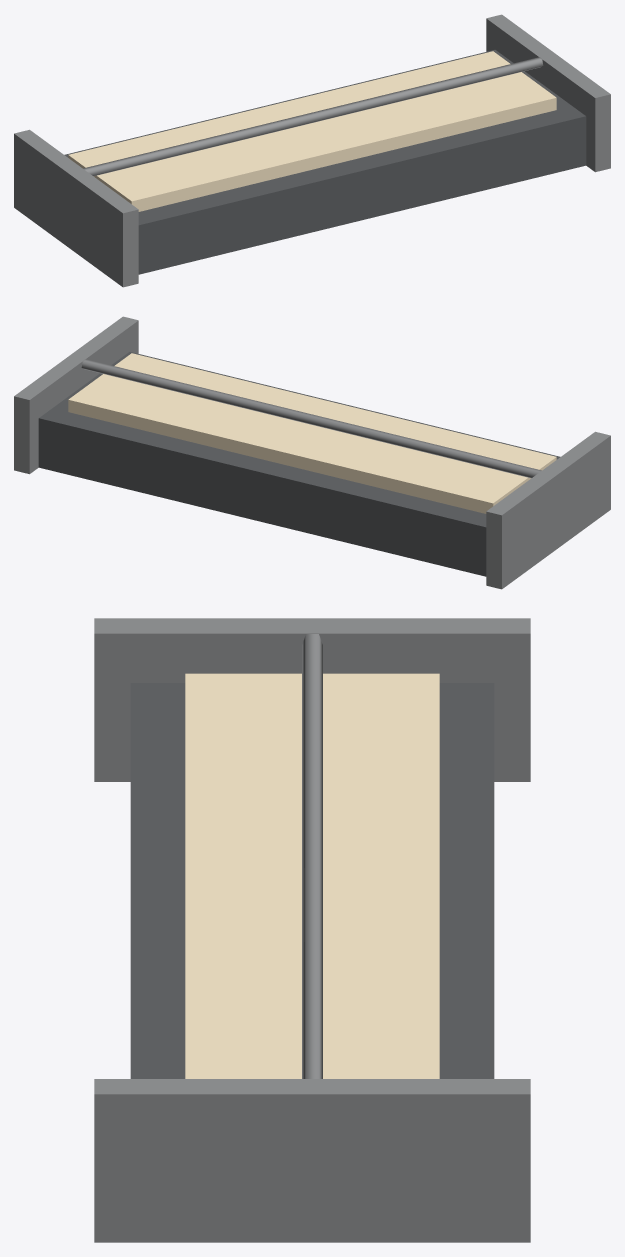
File: lightFitting_steel.glb
3 renders of one model, top to bottom at view 1: azimuth 30°, elevation 25°; view 2: azimuth 150°, elevation 25°; view 3: azimuth 270°, elevation 25°, orthographic. The views are drawn at different scales.
Parts seen in each view (by area): view 1: lightFitting_steel; view 2: lightFitting_steel; view 3: lightFitting_steel.
Boxes of the visible parts, x1,y1,x2,y2 form: lightFitting_steel: (14, 14, 610, 287); lightFitting_steel: (14, 316, 610, 589); lightFitting_steel: (94, 618, 530, 1242).
Bounding box in the file's own units: 0.62 × 0.09 × 0.24.
